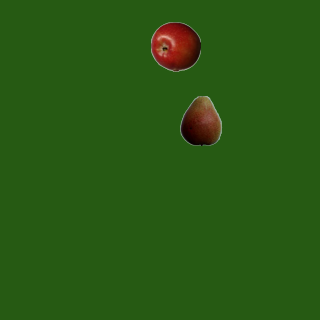Apple Braeburn: (150, 21, 200, 71)
Pear Forelle: (175, 95, 225, 145)
